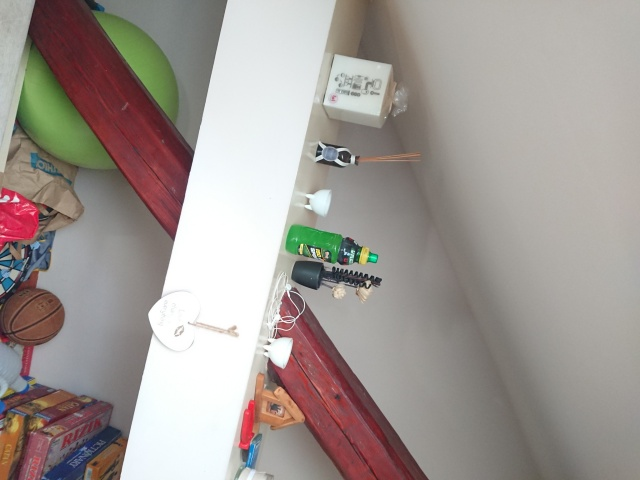Vindi Iso Sport Lemon-Grapefruit 500mL: (283, 222, 380, 267)
